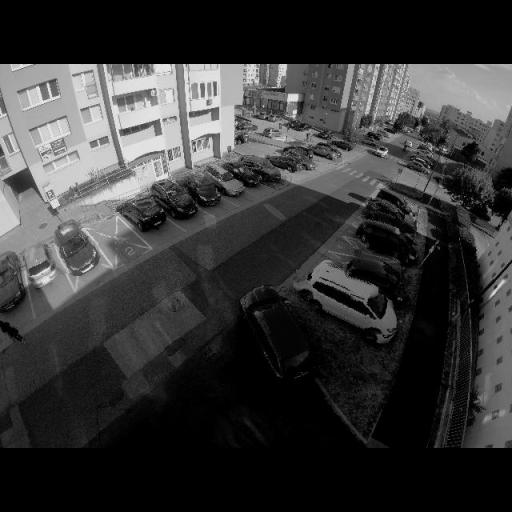busy: (239, 283, 324, 386), (300, 257, 394, 341), (343, 246, 406, 300), (362, 206, 417, 252), (355, 219, 413, 261), (54, 226, 101, 274), (153, 181, 199, 217), (365, 198, 414, 230), (0, 258, 27, 314), (124, 197, 166, 232), (22, 245, 60, 283), (202, 165, 243, 197), (182, 174, 220, 206), (243, 154, 280, 182), (223, 162, 259, 187), (288, 147, 317, 170), (270, 154, 300, 172), (312, 141, 338, 160)
